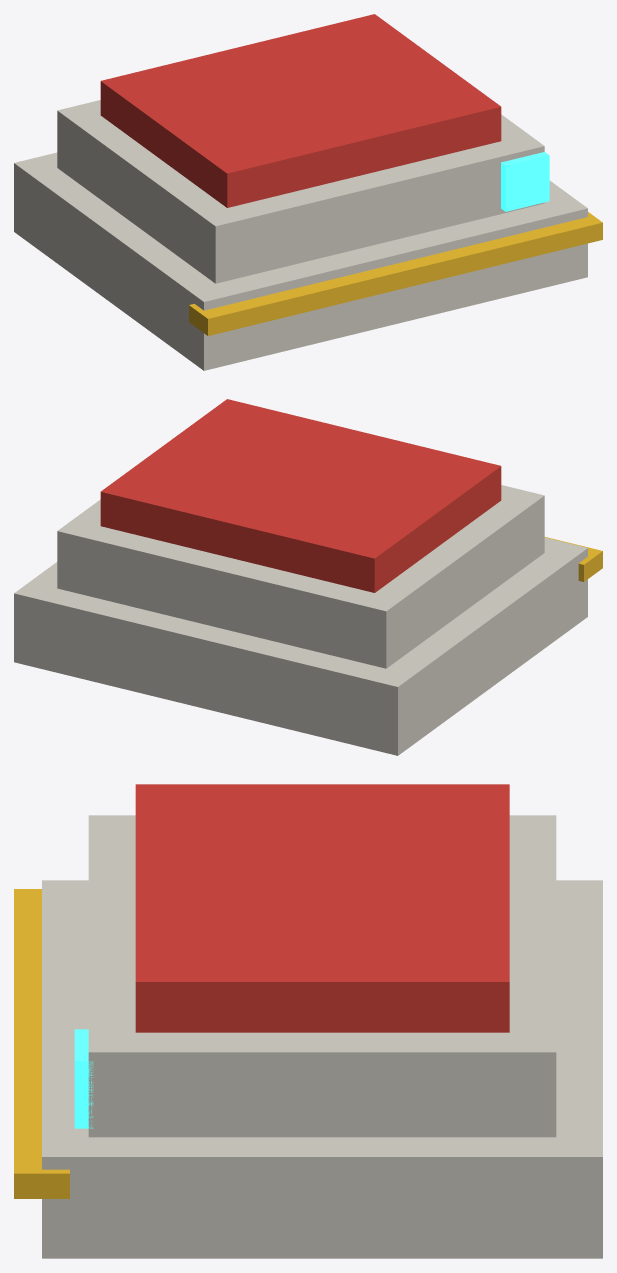
File: robot_shoulder_pauldron.glb
3 renders of one model, top to bottom at view 1: azimuth 30°, elevation 25°; view 2: azimuth 150°, elevation 25°; view 3: azimuth 270°, elevation 25°, orthographic. The views are drawn at different scales.
Visible parts, largest first — view 1: robot_shoulder_pauldron_armor, robot_shoulder_pauldron_red, robot_shoulder_pauldron_yellow, robot_shoulder_pauldron_glow; view 2: robot_shoulder_pauldron_armor, robot_shoulder_pauldron_red, robot_shoulder_pauldron_yellow; view 3: robot_shoulder_pauldron_armor, robot_shoulder_pauldron_red, robot_shoulder_pauldron_yellow, robot_shoulder_pauldron_glow.
Boxes of the visible parts, left/top/right/bottom form: robot_shoulder_pauldron_armor: left=14, top=100, right=587, bottom=370; robot_shoulder_pauldron_red: left=100, top=14, right=501, bottom=207; robot_shoulder_pauldron_yellow: left=189, top=212, right=602, bottom=335; robot_shoulder_pauldron_glow: left=501, top=152, right=549, bottom=211; robot_shoulder_pauldron_armor: left=14, top=485, right=587, bottom=755; robot_shoulder_pauldron_red: left=100, top=399, right=501, bottom=592; robot_shoulder_pauldron_yellow: left=545, top=537, right=602, bottom=581; robot_shoulder_pauldron_armor: left=42, top=815, right=602, bottom=1258; robot_shoulder_pauldron_red: left=135, top=784, right=509, bottom=1032; robot_shoulder_pauldron_yellow: left=14, top=889, right=69, bottom=1198; robot_shoulder_pauldron_glow: left=74, top=1029, right=93, bottom=1128.
Size of the model in its own units: 7.2 by 2.8 by 6.3.
